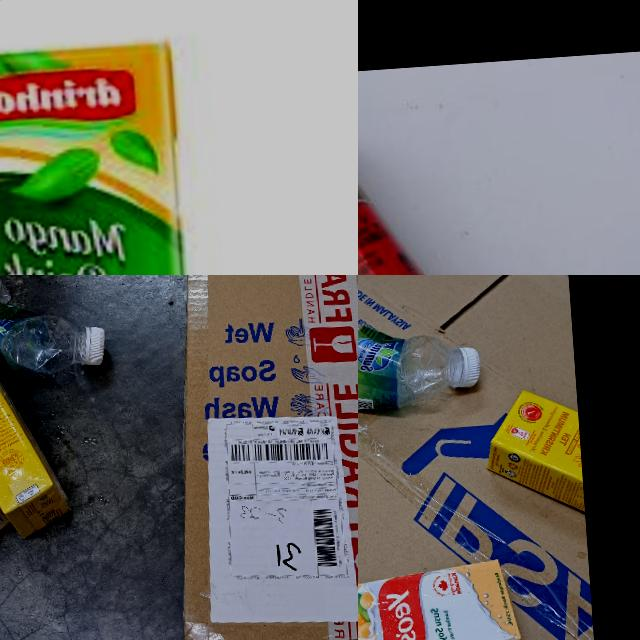caixinha: (0, 33, 213, 275), (488, 372, 586, 524), (0, 344, 73, 545), (358, 550, 518, 640), (0, 440, 13, 559)
garrafa de vidro: (358, 63, 592, 275)
garrafa plástica: (358, 283, 460, 419), (0, 275, 90, 381)
papelão: (358, 275, 602, 640), (141, 275, 358, 640)
tampa plástica: (82, 326, 110, 368), (459, 336, 483, 383)
